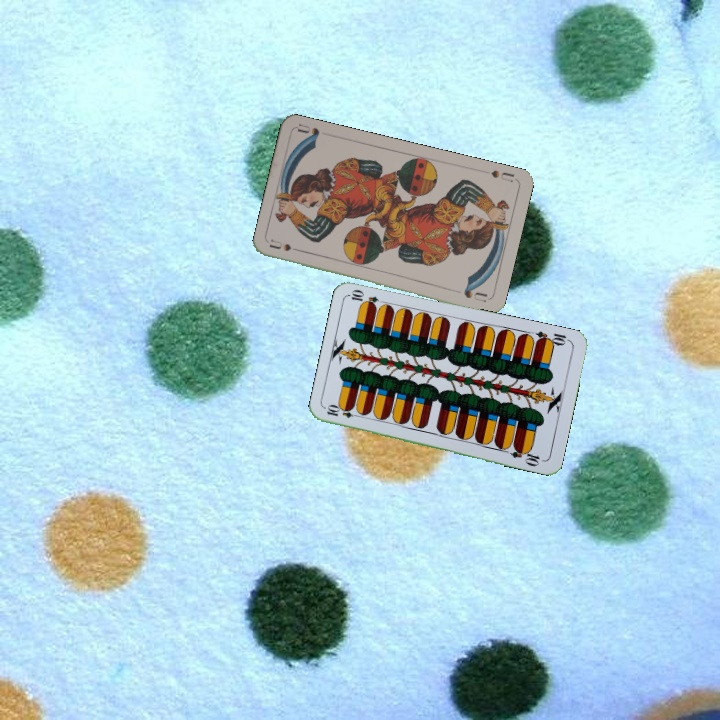E10: (532, 327, 572, 348), (323, 403, 363, 421)
SU: (266, 236, 307, 255), (478, 166, 516, 185)
